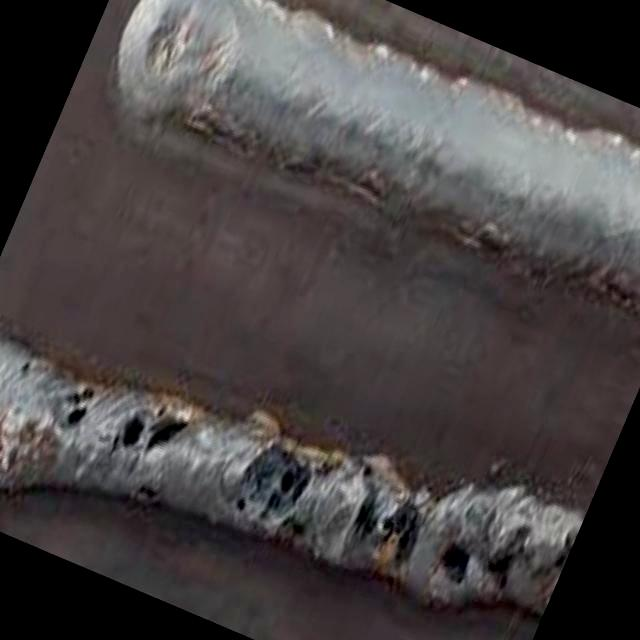defect: (232, 444, 316, 528), (345, 488, 426, 569), (113, 401, 199, 467), (433, 530, 479, 594), (479, 533, 519, 604), (54, 381, 102, 434)
